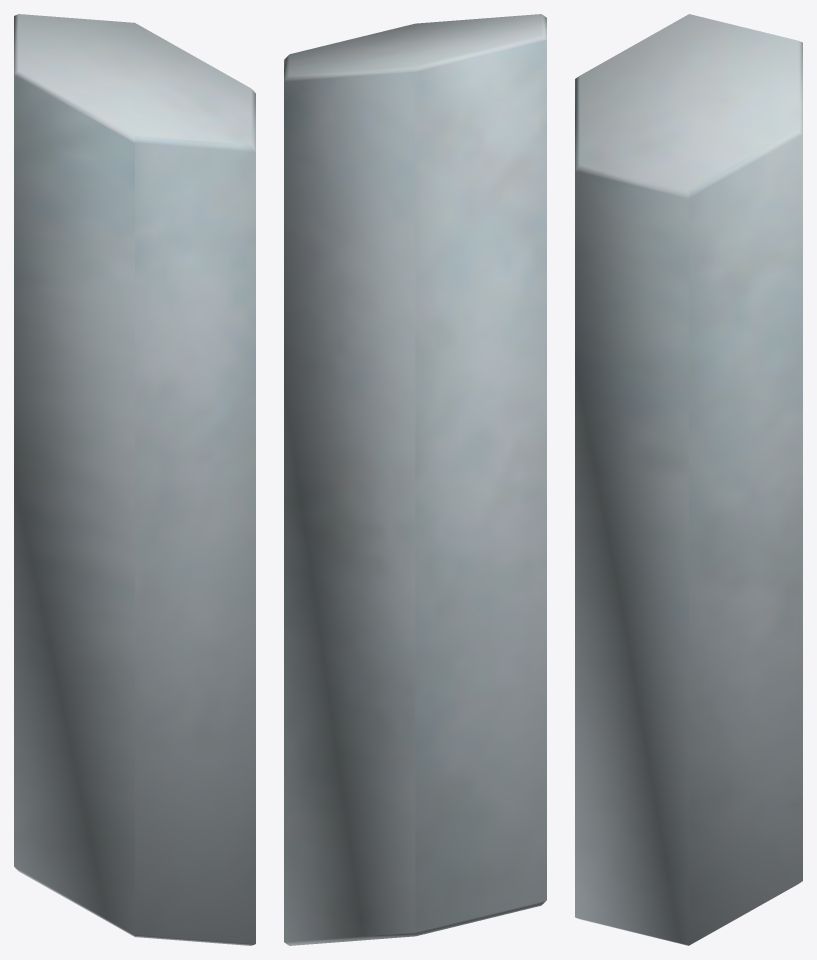
File: P_RockHexic_Piece08.obj
The picture shows the model from 3 angles, left to right: view 1: azimuth 30°, elevation 25°; view 2: azimuth 150°, elevation 25°; view 3: azimuth 270°, elevation 25°; orthographic projection. The views are drawn at different scales.
Bounding box in the file's own units: 3.6 × 12.47 × 3.12.
